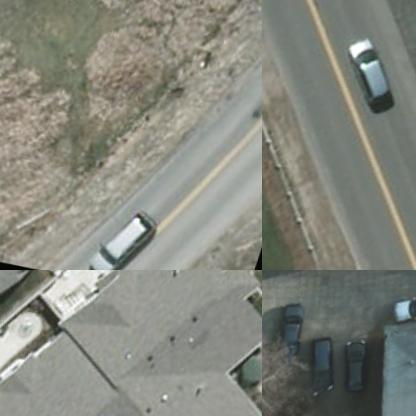car: (331, 32, 409, 110), (90, 198, 174, 269), (272, 303, 316, 364), (306, 339, 350, 400), (336, 342, 380, 400), (392, 291, 415, 335)
